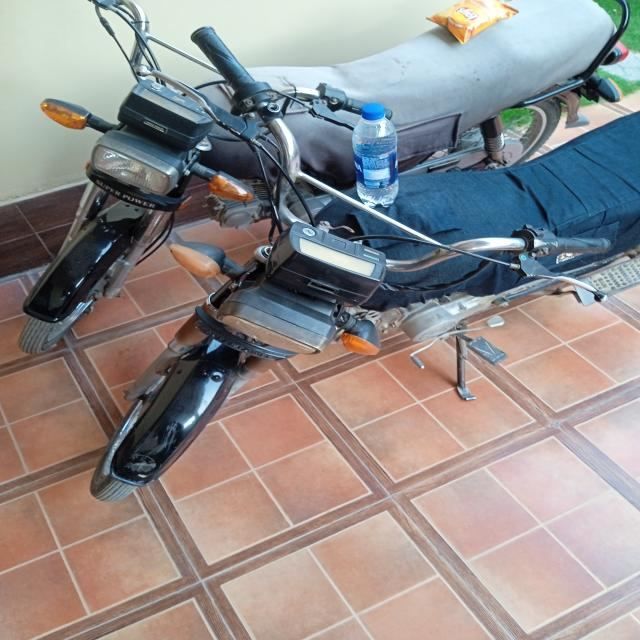Plastic: (349, 96, 402, 210)
